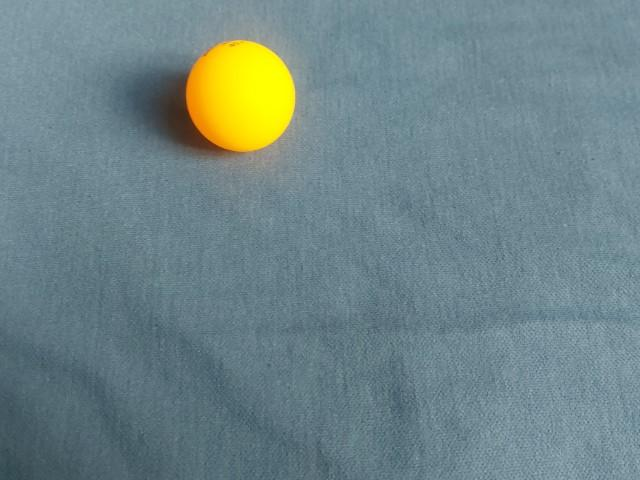oball: (178, 40, 299, 156)
